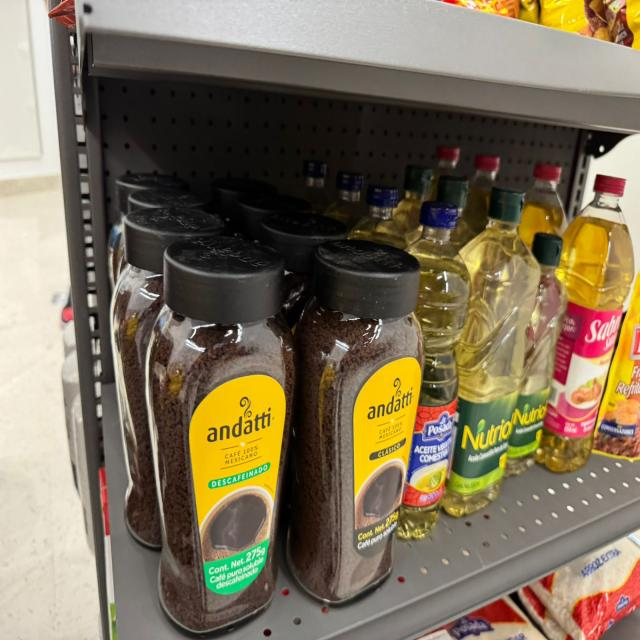ACEITE NUTRIOLI 400 ML: (505, 234, 567, 475)
ACEITE VEGETAL LA POSADA 800 ML: (398, 202, 470, 538), (349, 186, 404, 247), (324, 171, 363, 231), (301, 161, 330, 213)
Aceite Comestible Nutrioli 850ml: (440, 192, 539, 518), (437, 175, 477, 251), (394, 166, 432, 238)
Aceite Sabrosano 850ml: (536, 176, 634, 472), (519, 164, 567, 247), (461, 155, 500, 245), (429, 146, 460, 200)
Arroz La Posada 900 gr: (526, 531, 640, 639), (517, 586, 570, 639)
Azucar Estandar La Posada 1 kg: (416, 596, 546, 639)
CAFE SOLUBLE ANDATTI DESCAFEINADO 275G: (143, 237, 297, 633), (112, 206, 222, 547), (107, 172, 187, 286), (118, 187, 215, 277)
CHEETOS TORCIDITOS 240GR: (443, 0, 519, 19)
Cafe Soluble Andatti 275g: (285, 237, 426, 599), (261, 213, 347, 335), (225, 193, 311, 242), (213, 178, 276, 233)
Frijol La Sierra Chorizo 430 bolsa: (594, 271, 640, 459)
Papas Chips Barcel 170 gr bolsa con sal: (538, 0, 640, 49), (519, 0, 539, 23)
